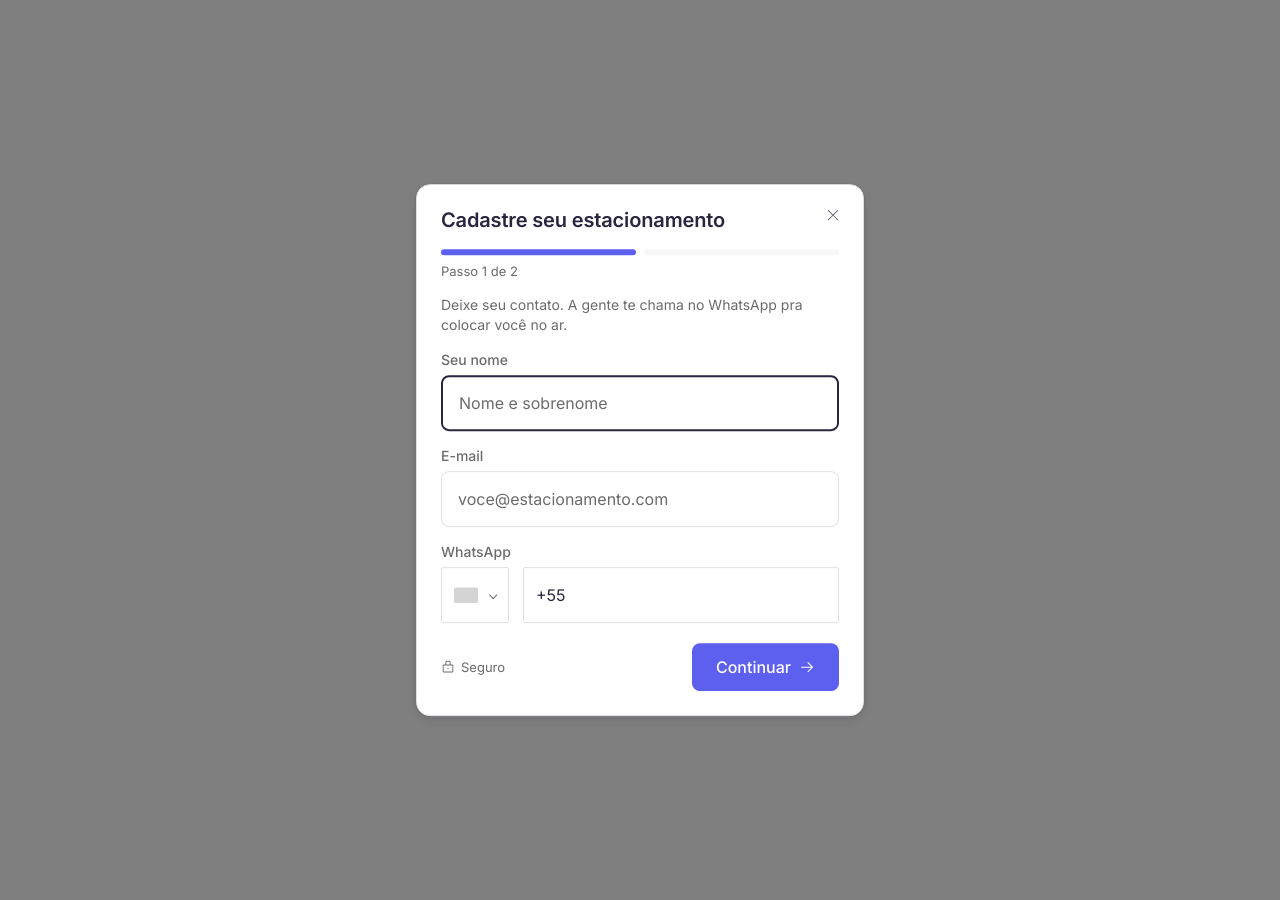
Scenario: PartnerLeadModal › no passo 2, vagas é obrigatório
The image size is (1280, 900).
Type "Ana Souza" into the field labelled "Seu nome" at (640, 403), box top-left (441, 375), bottom-right (839, 431)
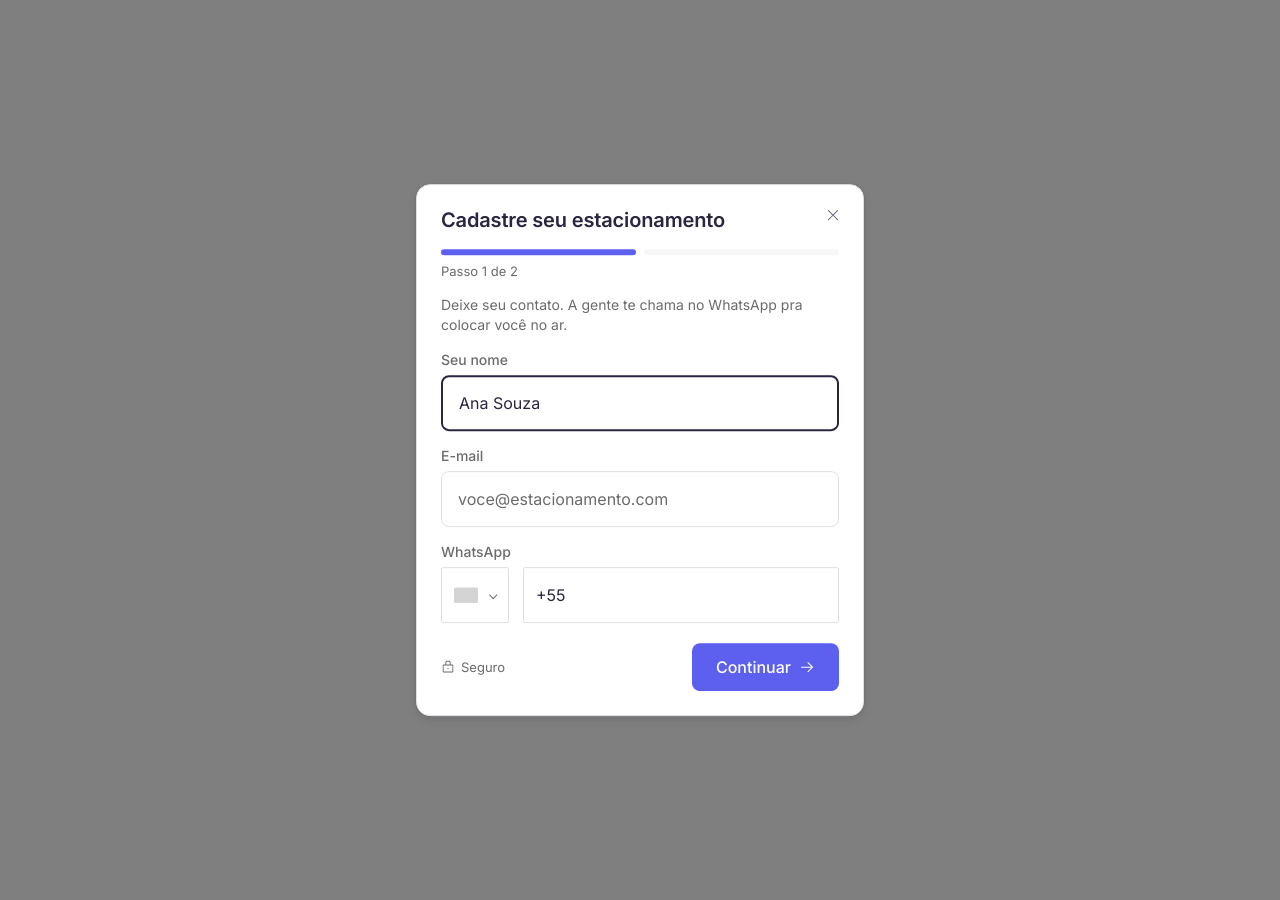
Type "ana@estac.com" into the field labelled "E-mail" at (640, 499), box top-left (441, 471), bottom-right (839, 527)
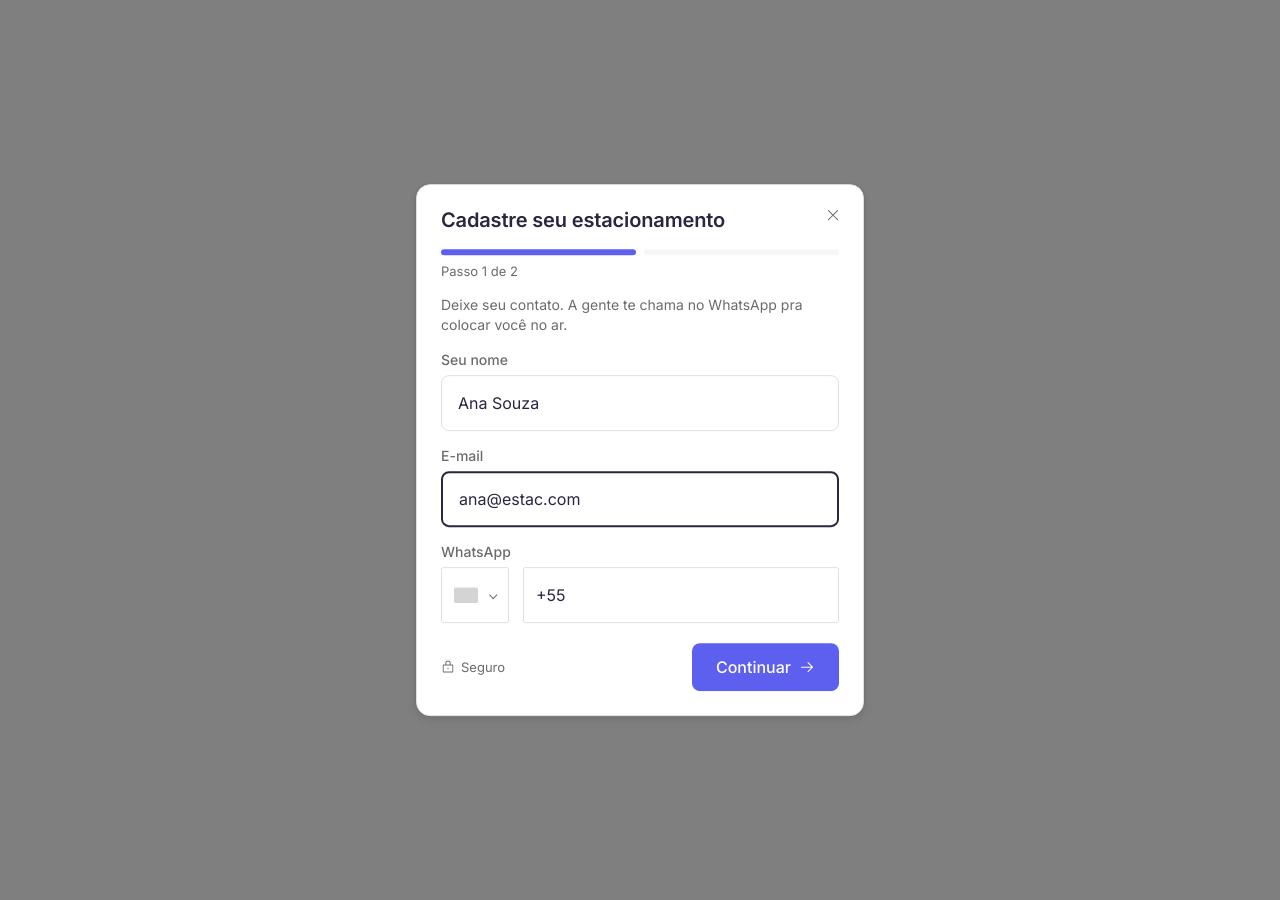
Type "11991234567" into the field labelled "WhatsApp" at (681, 595), box top-left (523, 567), bottom-right (839, 623)
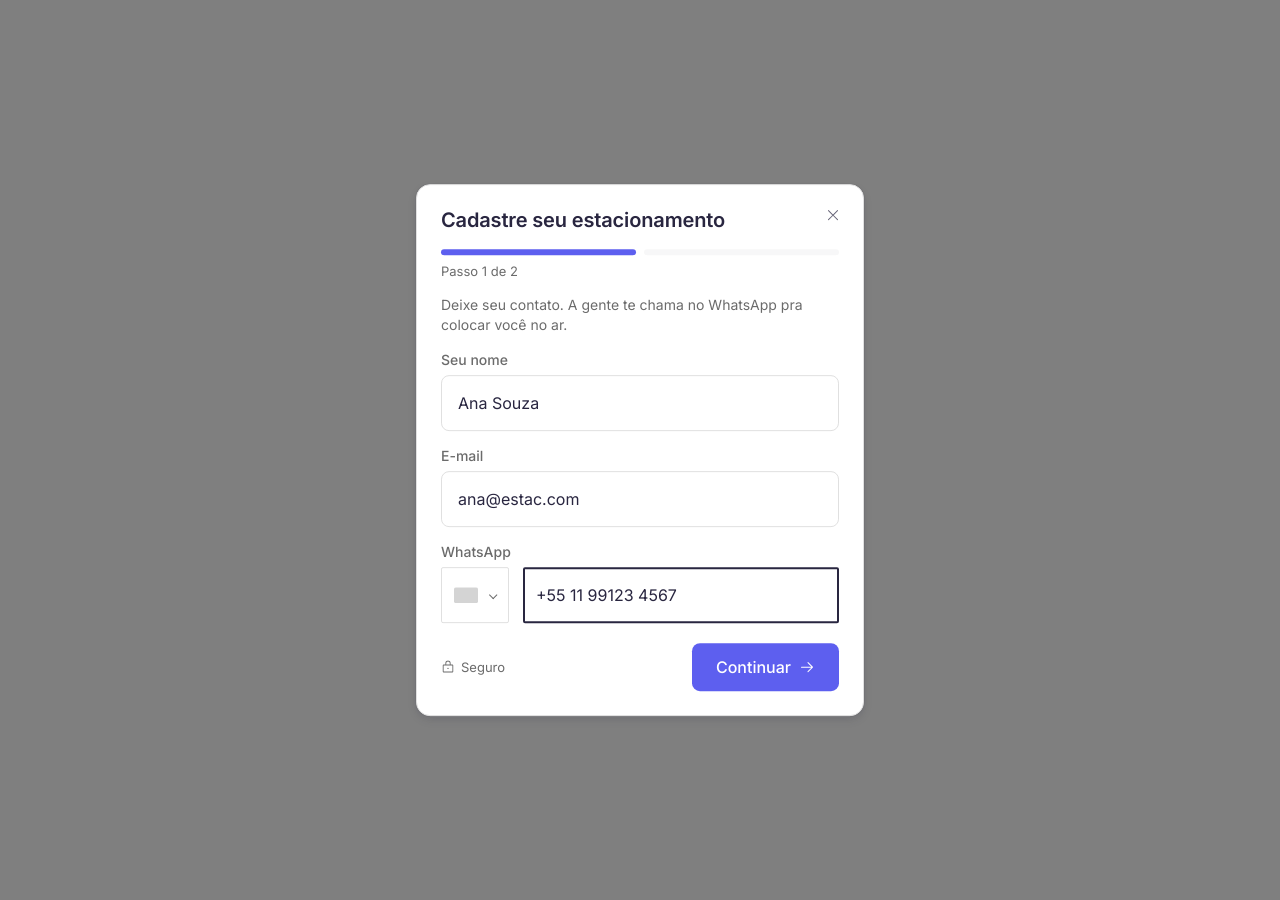
Click the button "Continuar" at (766, 667), box top-left (692, 643), bottom-right (839, 691)
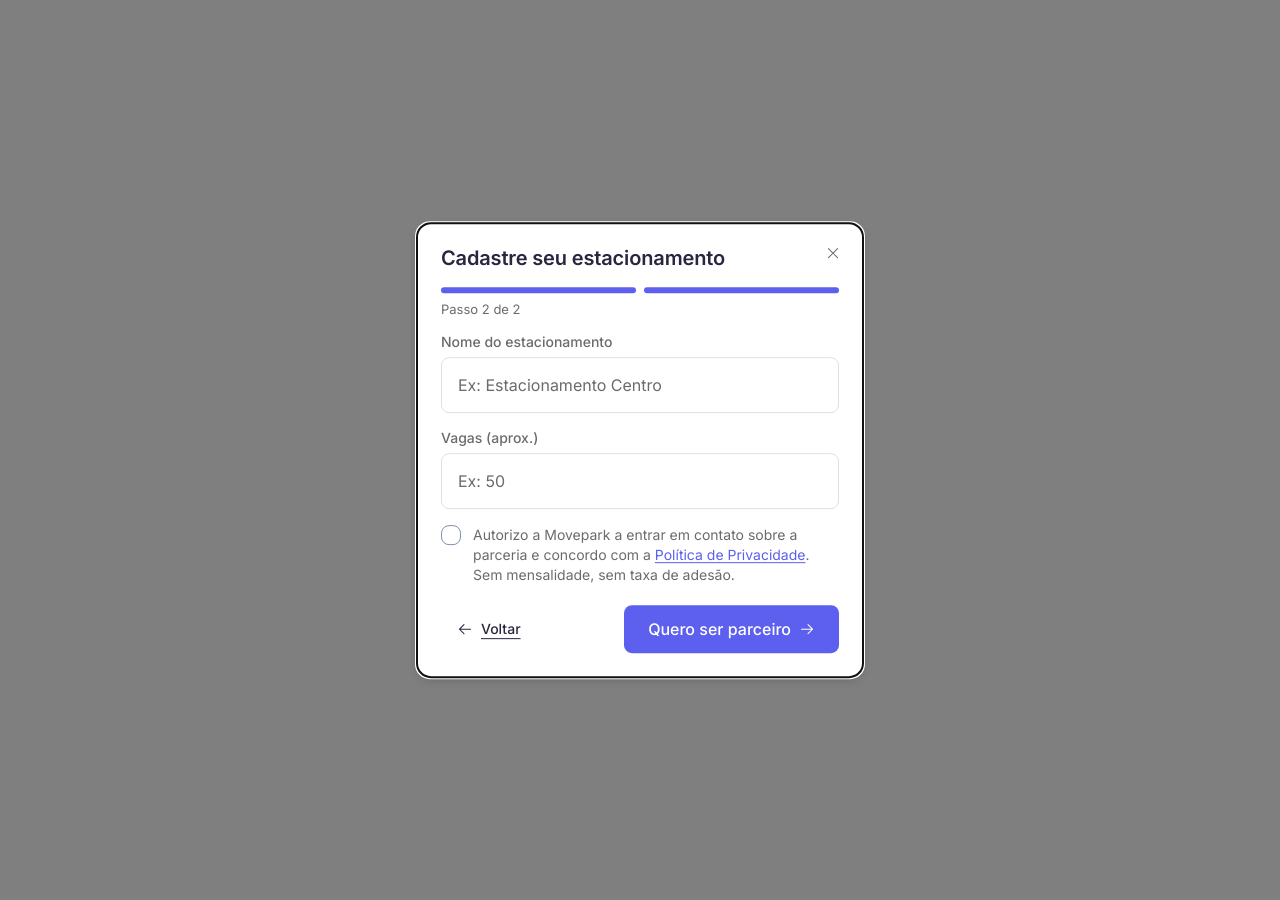
Type "Estac Centro" into the field labelled "Nome do estacionamento" at (640, 385), box top-left (441, 357), bottom-right (839, 413)
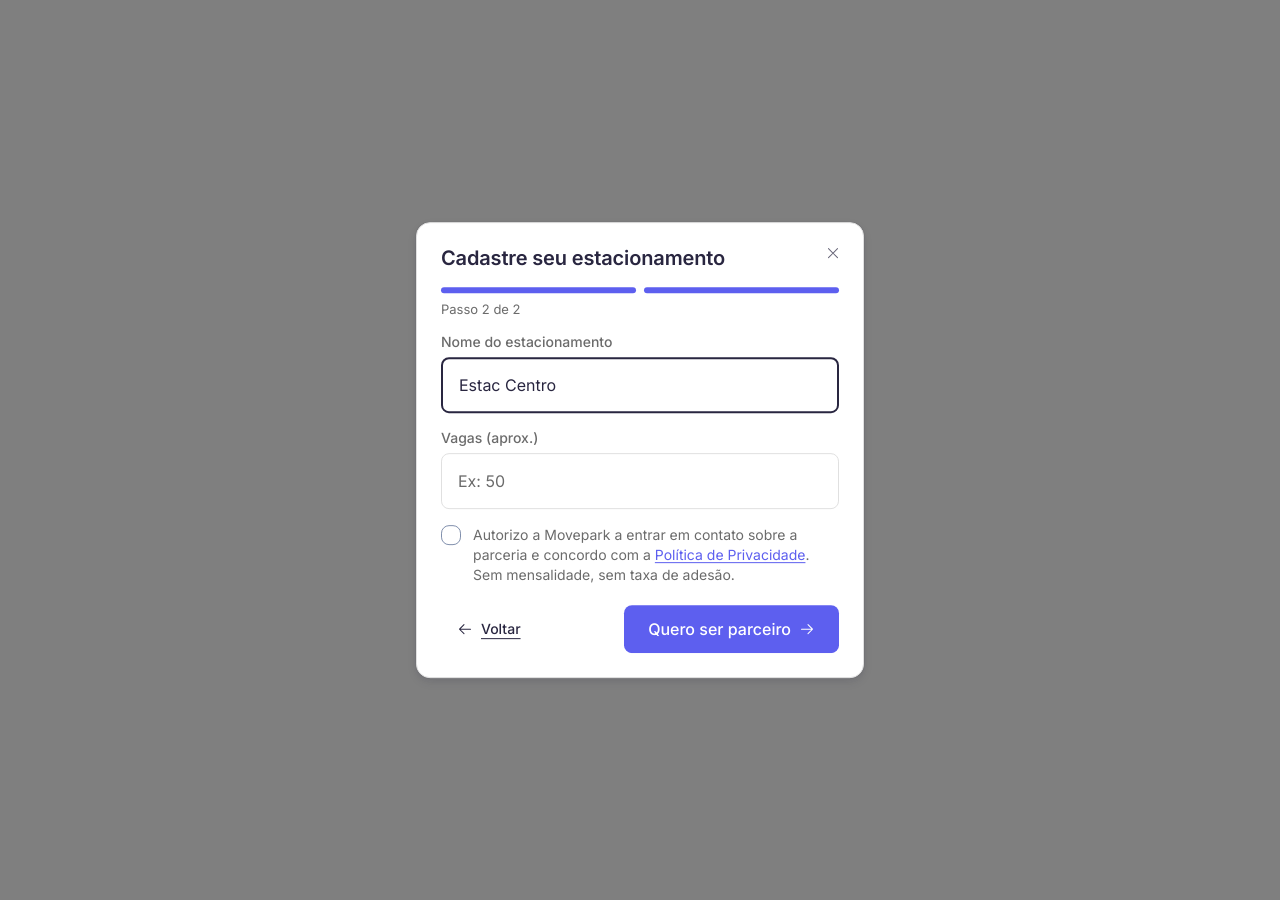
Click the button "Quero ser parceiro" at (732, 629), box top-left (624, 605), bottom-right (839, 653)
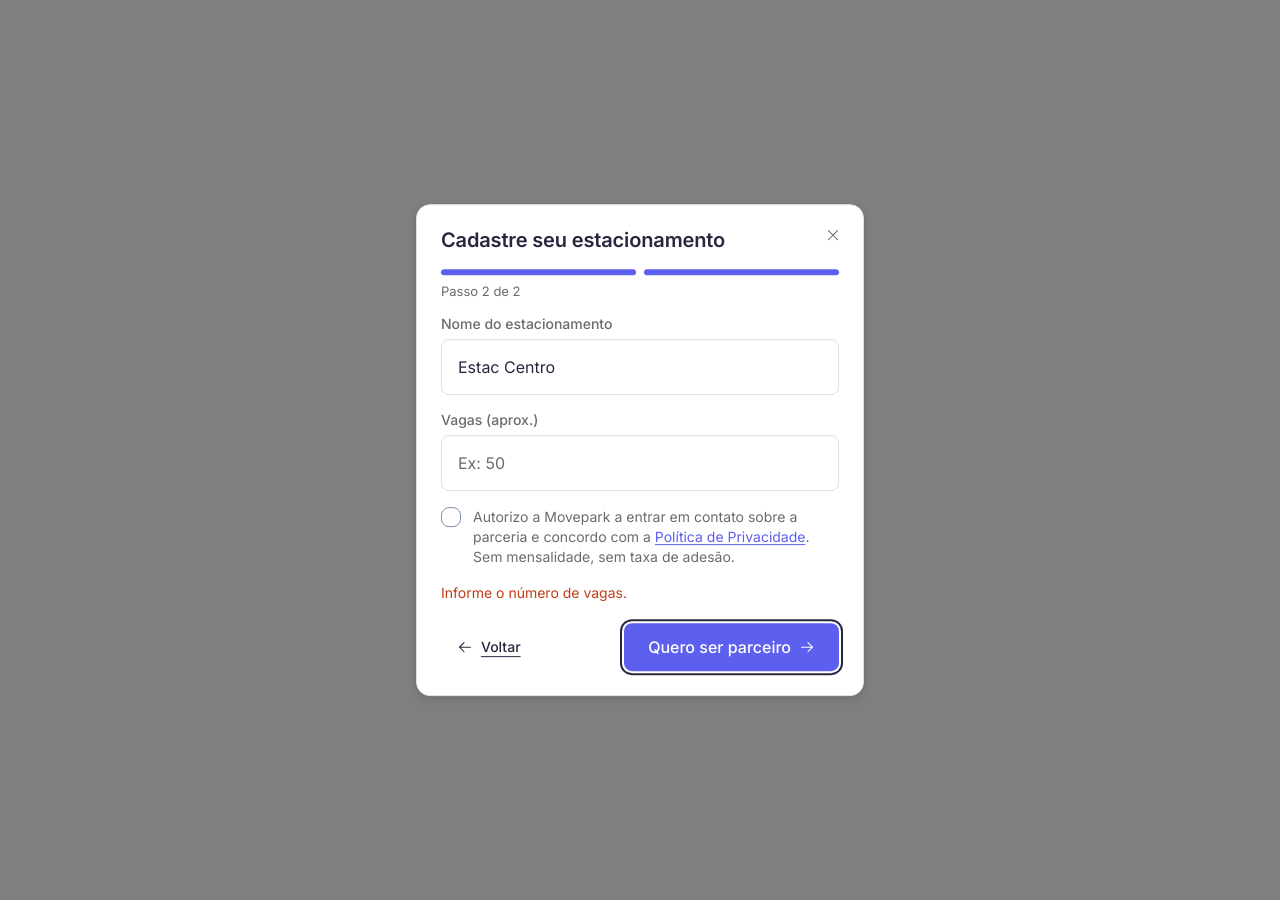
Expected: the text "Informe o número de vagas." is shown, top-left (441, 584), bottom-right (627, 601)
